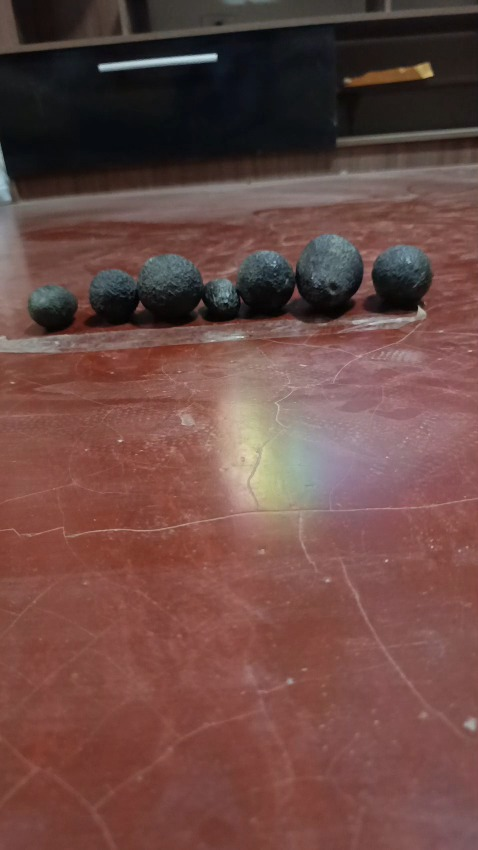Primera: (295, 233, 364, 310), (137, 253, 202, 321)
Segunda: (371, 244, 432, 308), (236, 250, 296, 314), (89, 268, 139, 323)
Tercera: (27, 283, 77, 330), (202, 278, 239, 320)
